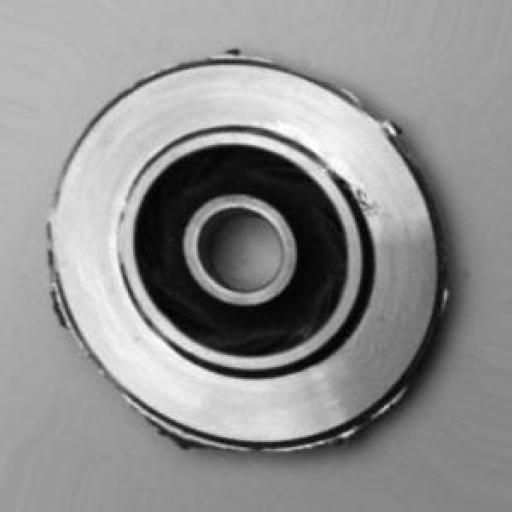defect: (36, 38, 471, 475)
